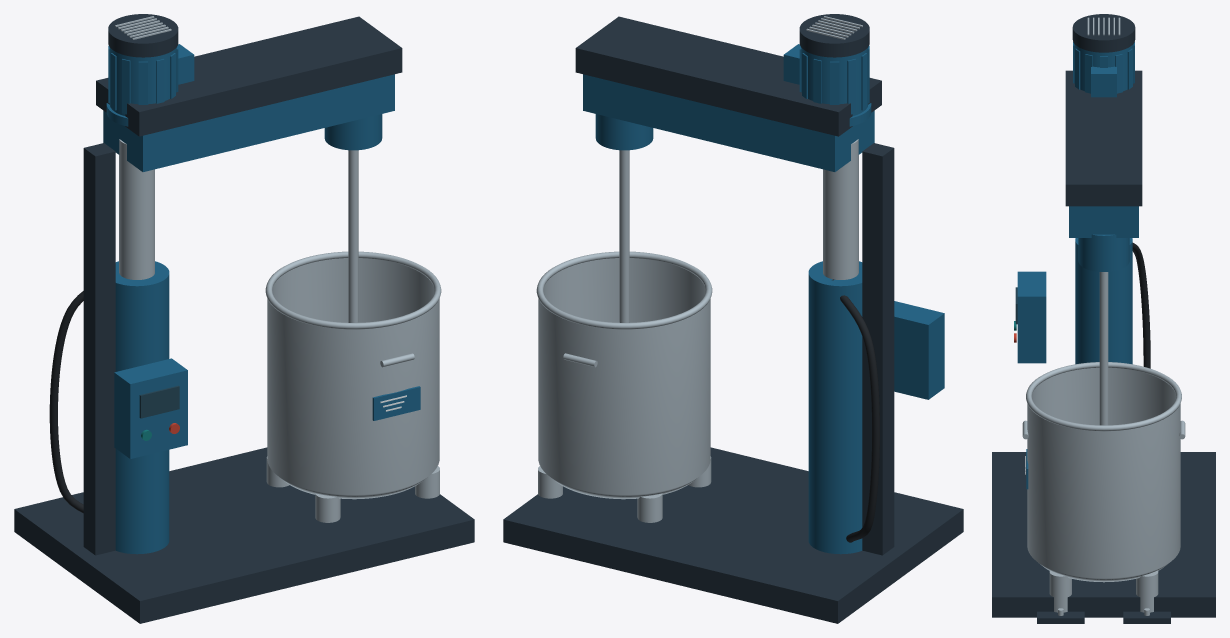
The model's file is 分散机.79cb532ac467.glb.
3 renders of one model, left to right at view 1: azimuth 30°, elevation 25°; view 2: azimuth 150°, elevation 25°; view 3: azimuth 270°, elevation 25°, orthographic. The views are drawn at different scales.
Parts seen in each view (by area): view 1: disperser, disperser_vessel, disperser_mast, disperser_head, disperser_motor, disperser_panel, disperser_shaft, disperser_vessel_leg_2; view 2: disperser, disperser_vessel, disperser_mast, disperser_head, disperser_motor, disperser_panel, disperser_shaft, disperser_vessel_leg_0; view 3: disperser_vessel, disperser, disperser_head, disperser_mast, disperser_motor, disperser_panel, disperser_shaft, disperser_vessel_leg_1, disperser_vessel_leg_3.
Part boxes in pixels (left/top/right/bottom): disperser: left=14, top=291, right=474, bottom=623; disperser_vessel: left=265, top=251, right=441, bottom=499; disperser_mast: left=83, top=139, right=169, bottom=555; disperser_head: left=96, top=16, right=402, bottom=171; disperser_motor: left=106, top=14, right=194, bottom=126; disperser_panel: left=114, top=358, right=187, bottom=458; disperser_shaft: left=348, top=150, right=358, bottom=322; disperser_vessel_leg_2: left=315, top=493, right=340, bottom=522; disperser: left=503, top=279, right=963, bottom=623; disperser_vessel: left=536, top=251, right=712, bottom=499; disperser_mast: left=808, top=139, right=894, bottom=555; disperser_head: left=575, top=16, right=881, bottom=171; disperser_motor: left=783, top=14, right=871, bottom=126; disperser_panel: left=894, top=301, right=944, bottom=399; disperser_shaft: left=619, top=150, right=629, bottom=322; disperser_vessel_leg_0: left=637, top=493, right=662, bottom=522; disperser_vessel: left=1022, top=362, right=1185, bottom=582; disperser: left=992, top=243, right=1215, bottom=617; disperser_head: left=1065, top=70, right=1142, bottom=271; disperser_mast: left=1075, top=238, right=1132, bottom=364; disperser_motor: left=1072, top=14, right=1135, bottom=97; disperser_panel: left=1014, top=271, right=1046, bottom=363; disperser_shaft: left=1099, top=272, right=1108, bottom=425; disperser_vessel_leg_1: left=1123, top=570, right=1170, bottom=623; disperser_vessel_leg_3: left=1037, top=570, right=1084, bottom=623.
Size of the model in its own units: 2.28 by 3.28 by 1.4.
